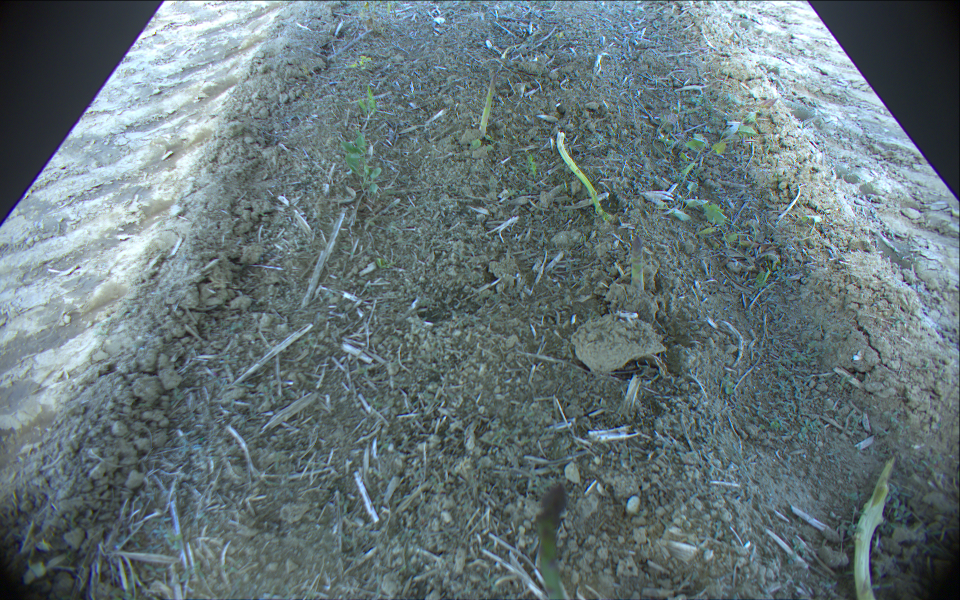aspa: (851, 458, 899, 600), (536, 480, 570, 600), (555, 129, 602, 213), (476, 71, 497, 138), (630, 235, 642, 294)
